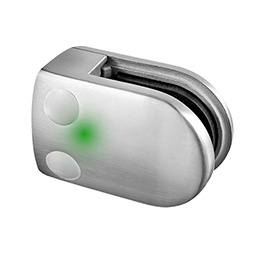focus: (71, 120, 103, 152)
